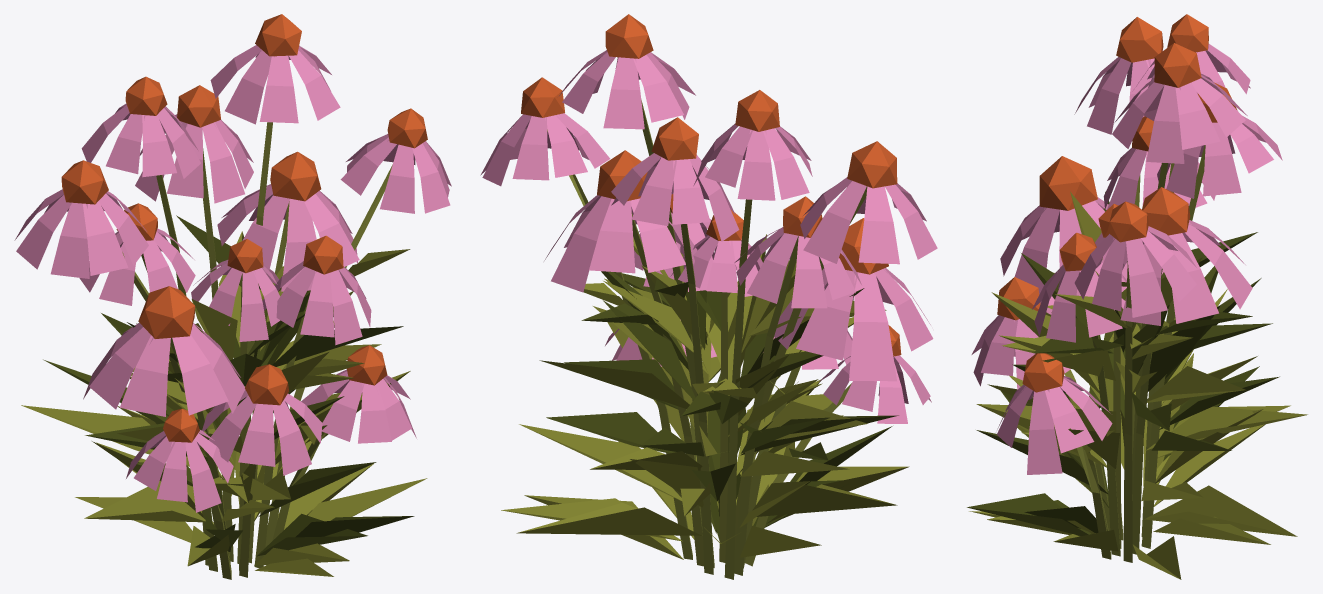
File: coneflower.glb
The picture shows the model from 3 angles, left to right: view 1: azimuth 30°, elevation 25°; view 2: azimuth 150°, elevation 25°; view 3: azimuth 270°, elevation 25°; orthographic projection. The views are drawn at different scales.
Visible parts, largest first — view 1: petals, leaves_green, cones, leaves_dark, stems; view 2: petals, leaves_green, leaves_dark, stems, cones; view 3: petals, leaves_green, leaves_dark, cones, stems.
Boxes of the visible parts, x1=… form: petals: x1=14, y1=45, x2=451, y2=512; leaves_green: x1=21, y1=231, x2=427, y2=576; cones: x1=61, y1=14, x2=427, y2=442; leaves_dark: x1=43, y1=215, x2=414, y2=556; stems: x1=122, y1=122, x2=392, y2=579; petals: x1=480, y1=50, x2=937, y2=423; leaves_green: x1=501, y1=234, x2=909, y2=559; leaves_dark: x1=546, y1=237, x2=898, y2=540; stems: x1=547, y1=100, x2=867, y2=579; cones: x1=521, y1=14, x2=901, y2=356; petals: x1=971, y1=44, x2=1282, y2=474; leaves_green: x1=969, y1=191, x2=1307, y2=579; leaves_dark: x1=967, y1=191, x2=1279, y2=535; cones: x1=997, y1=14, x2=1237, y2=392; stems: x1=1064, y1=145, x2=1205, y2=562.
Size of the model in its own units: 0.6261 by 0.744 by 0.4313.
